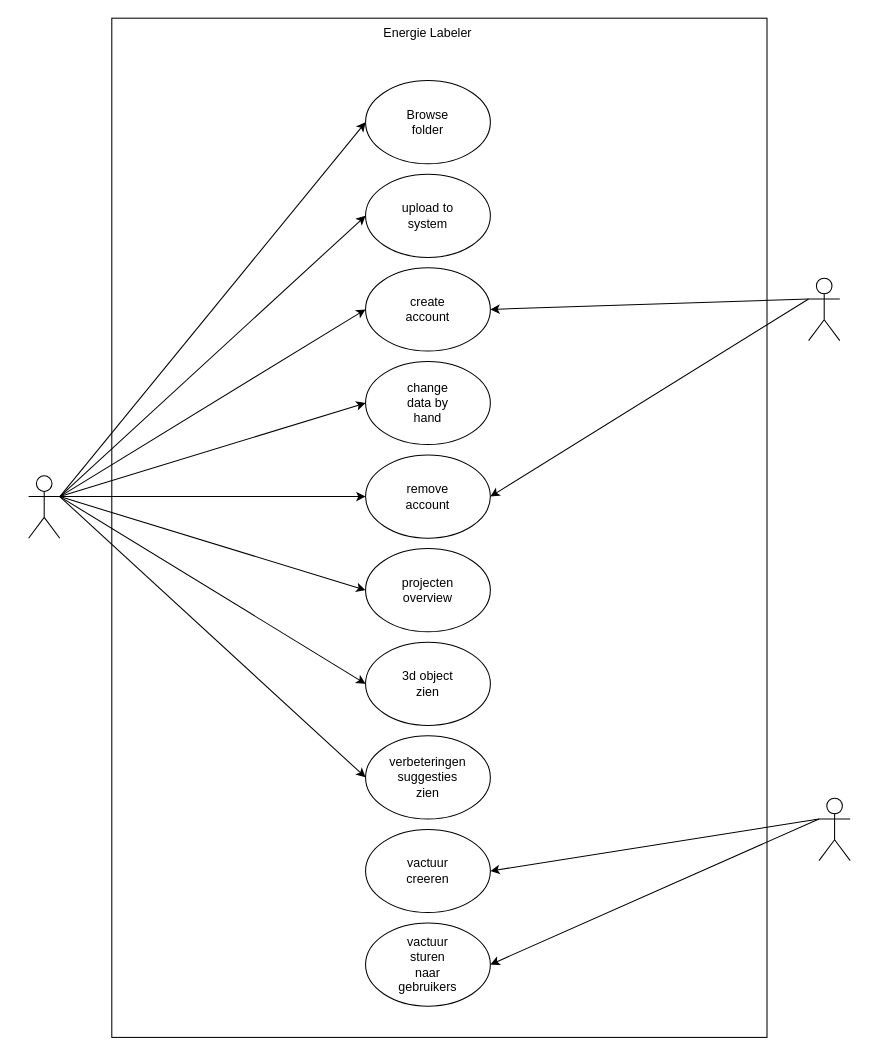
Image size: 886x1056. Some labels were removed from this diagram. Here are the shapes that lost their labels. From the top down, the box of each, then its label:
(808, 277, 840, 341): systeem beheer
(28, 475, 60, 538): gebruiker
(818, 797, 850, 861): bedrijven
